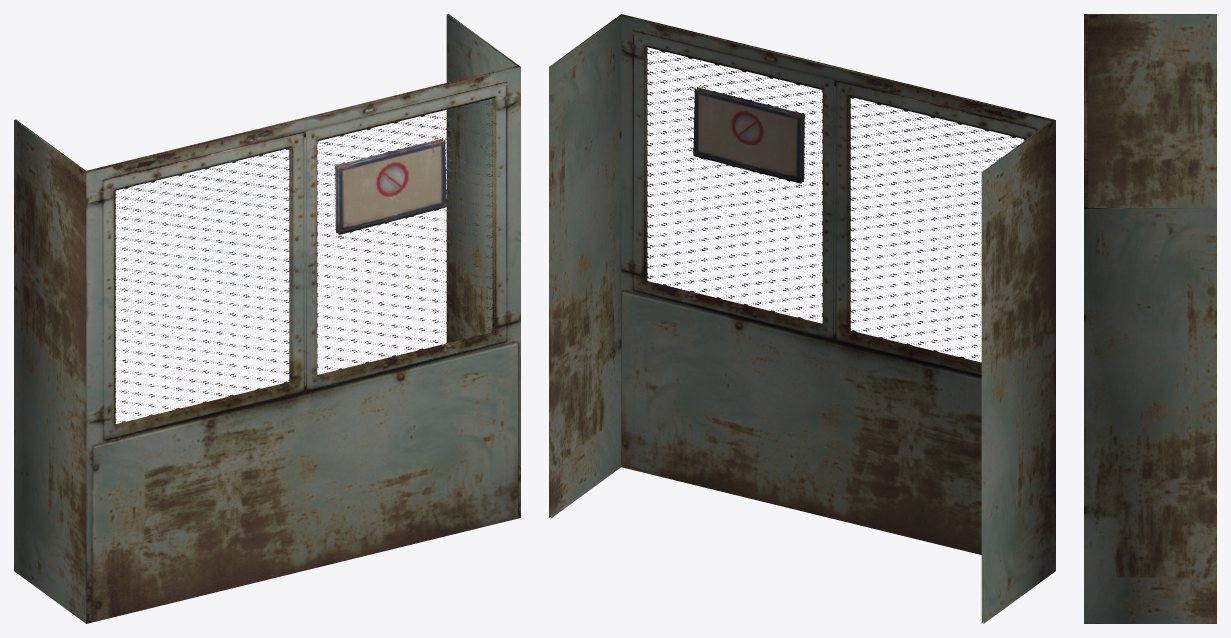
Rendered from fuse_box_0001.fbx.
The picture shows the model from 3 angles, left to right: view 1: azimuth 30°, elevation 25°; view 2: azimuth 150°, elevation 25°; view 3: azimuth 270°, elevation 25°; orthographic projection. The views are drawn at different scales.
Parts seen in each view (by area): view 1: Mesh; view 2: Mesh; view 3: Mesh.
Boxes of the visible parts, x1,y1,x2,y2 form: Mesh: (14, 14, 520, 623); Mesh: (549, 14, 1055, 623); Mesh: (1084, 14, 1216, 623).
Size of the model in its own units: 197 by 196 by 56.84.
